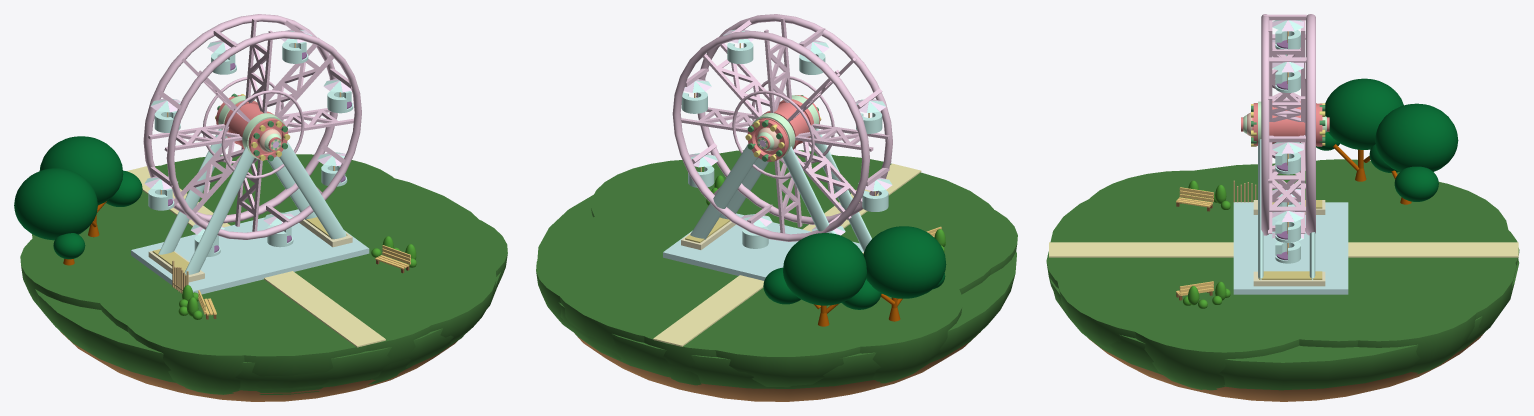
3 renders of one model, left to right at view 1: azimuth 30°, elevation 25°; view 2: azimuth 150°, elevation 25°; view 3: azimuth 270°, elevation 25°, orthographic.
Parts seen in each view (by area): view 1: hemisphere.009, hemisphere.005, hemisphere.006, hemisphere.010, hemisphere.002, box.068, hemisphere.004, hemisphere.008, hemisphere, circularRing, hemisphere.003, hemisphere.031 (+23 smaller); view 2: hemisphere.004, hemisphere, hemisphere.010, hemisphere.001, hemisphere.009, hemisphere.002, hemisphere.003, hemisphere.006, hemisphere.005, circularRing.001, box.068, hemisphere.025 (+24 smaller); view 3: hemisphere, hemisphere.004, hemisphere.010, hemisphere.005, hemisphere.008, hemisphere.009, box.068, hemisphere.002, hemisphere.007, hemisphere.006, hemisphere.003, hemisphere.001 (+14 smaller).
Part boxes in pixels (bbox=[...]): hemisphere.009: bbox=[92, 207, 447, 394]; hemisphere.005: bbox=[122, 276, 328, 394]; hemisphere.006: bbox=[225, 217, 496, 344]; hemisphere.010: bbox=[35, 178, 500, 390]; hemisphere.002: bbox=[20, 215, 193, 310]; box.068: bbox=[131, 209, 369, 294]; hemisphere.004: bbox=[81, 155, 435, 304]; hemisphere.008: bbox=[335, 205, 507, 294]; hemisphere: bbox=[199, 154, 406, 237]; circularRing: bbox=[166, 31, 361, 239]; hemisphere.003: bbox=[32, 176, 293, 291]; hemisphere.031: bbox=[14, 168, 97, 222]; hemisphere.004: bbox=[546, 193, 891, 359]; hemisphere: bbox=[536, 222, 737, 331]; hemisphere.010: bbox=[537, 195, 1016, 388]; hemisphere.001: bbox=[609, 276, 843, 385]; hemisphere.009: bbox=[651, 163, 1007, 312]; hemisphere.002: bbox=[749, 280, 962, 383]; hemisphere.003: bbox=[645, 260, 919, 387]; hemisphere.006: bbox=[633, 150, 910, 240]; hemisphere.005: bbox=[845, 193, 1017, 280]; circularRing.001: bbox=[672, 31, 869, 241]; box.068: bbox=[663, 213, 863, 280]; hemisphere.025: bbox=[783, 233, 866, 288]; hemisphere: bbox=[1273, 257, 1483, 374]; hemisphere.004: bbox=[1163, 191, 1516, 347]; hemisphere.010: bbox=[1050, 163, 1519, 390]; hemisphere.005: bbox=[1082, 170, 1257, 259]; hemisphere.008: bbox=[1119, 263, 1322, 390]; hemisphere.009: bbox=[1050, 170, 1401, 314]; box.068: bbox=[1233, 202, 1348, 294]; hemisphere.002: bbox=[1238, 159, 1446, 242]; hemisphere.007: bbox=[1046, 212, 1245, 309]; hemisphere.006: bbox=[1057, 222, 1320, 351]; hemisphere.003: bbox=[1305, 174, 1508, 285]; hemisphere.001: bbox=[1348, 202, 1519, 289].
Size of the model in its own units: 6.6 by 5.1 by 6.61.
